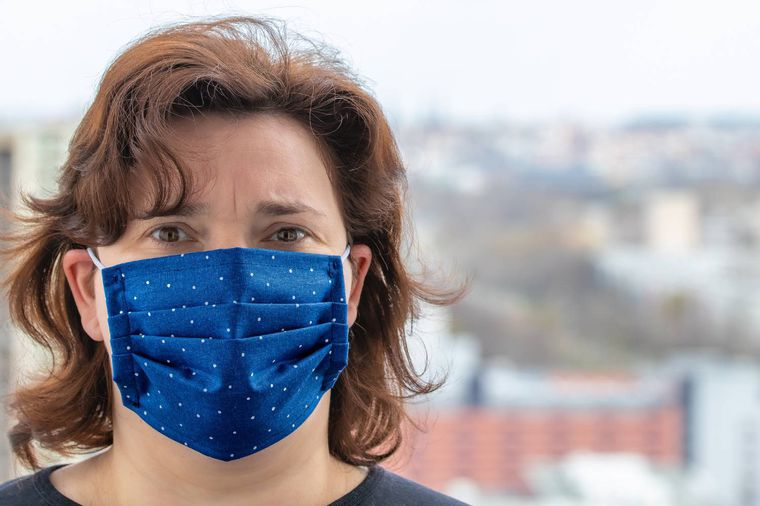with_mask: (58, 57, 409, 482)
